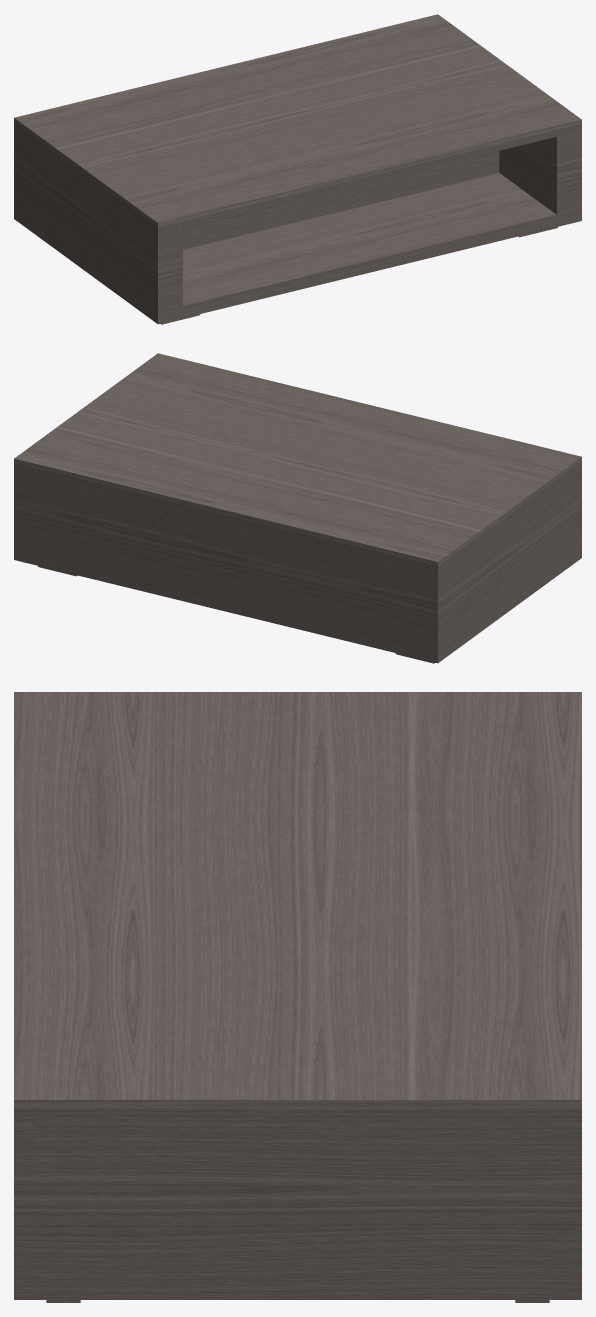
Rendered from table.FBX.
3 views of the same model, one above another, from view 1: azimuth 30°, elevation 25°; view 2: azimuth 150°, elevation 25°; view 3: azimuth 270°, elevation 25° (orthographic). The views are drawn at different scales.
Visible parts, largest first — view 1: tab; view 2: tab; view 3: tab.
Part boxes in pixels (x1,y1,x2,y2): tab: (14,14,581,324); tab: (14,353,581,663); tab: (14,692,581,1299).
Bounding box in the file's own units: 413 × 243 × 103.
